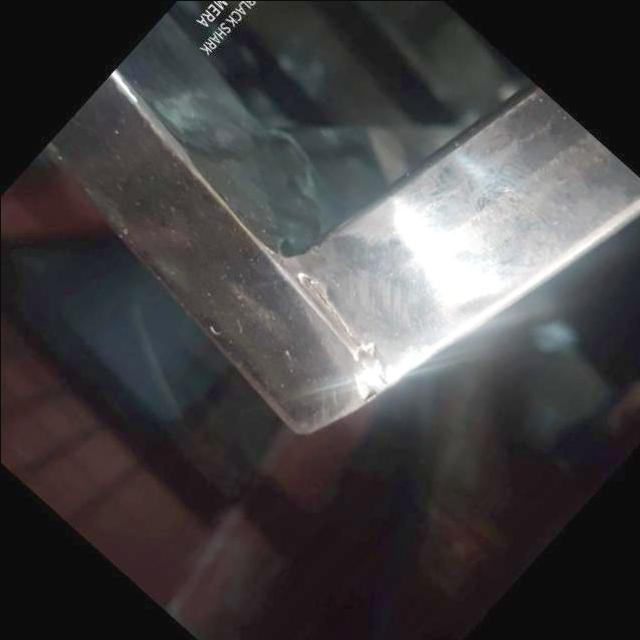defect: (303, 275, 362, 349)
